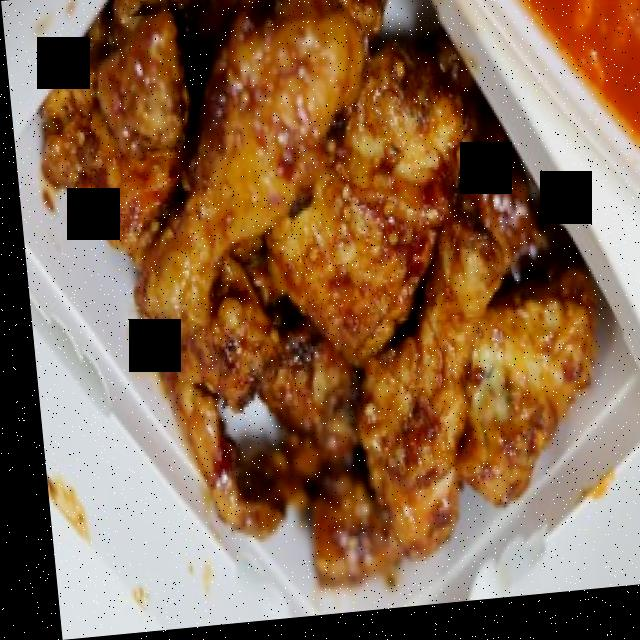Frango: (29, 0, 601, 622)
